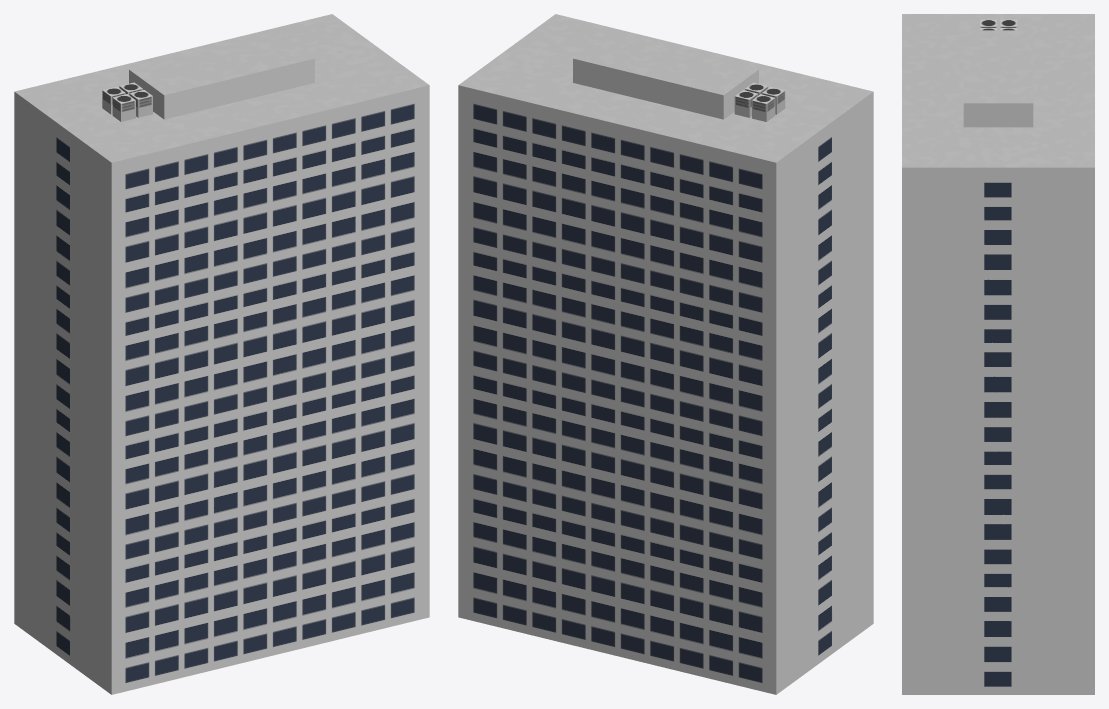
File: Building_M_W4_001.fbx
3 renders of one model, left to right at view 1: azimuth 30°, elevation 25°; view 2: azimuth 150°, elevation 25°; view 3: azimuth 270°, elevation 25°, orthographic.
Parts seen in each view (by area): view 1: Building_M_W4_001; view 2: Building_M_W4_001; view 3: Building_M_W4_001.
Part boxes in pixels (bbox=[...]): Building_M_W4_001: bbox=[14, 14, 429, 694]; Building_M_W4_001: bbox=[458, 14, 873, 694]; Building_M_W4_001: bbox=[902, 14, 1094, 694].
Size of the model in its own units: 59.4 by 99.36 by 31.47.
